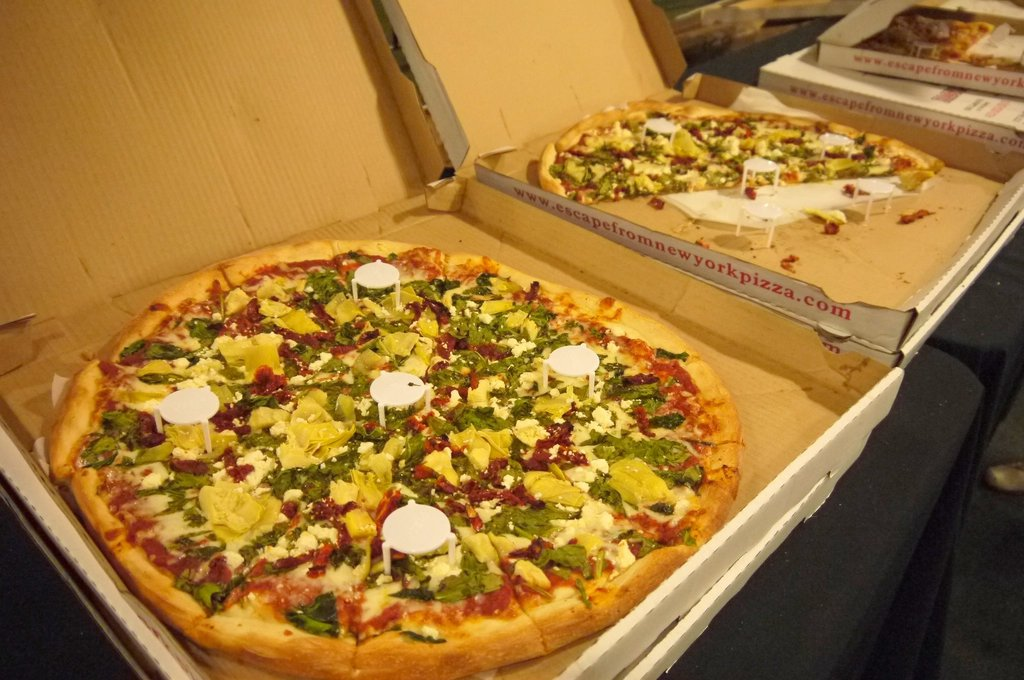Pizza: (37, 247, 766, 673), (533, 84, 951, 201), (878, 9, 988, 69)
